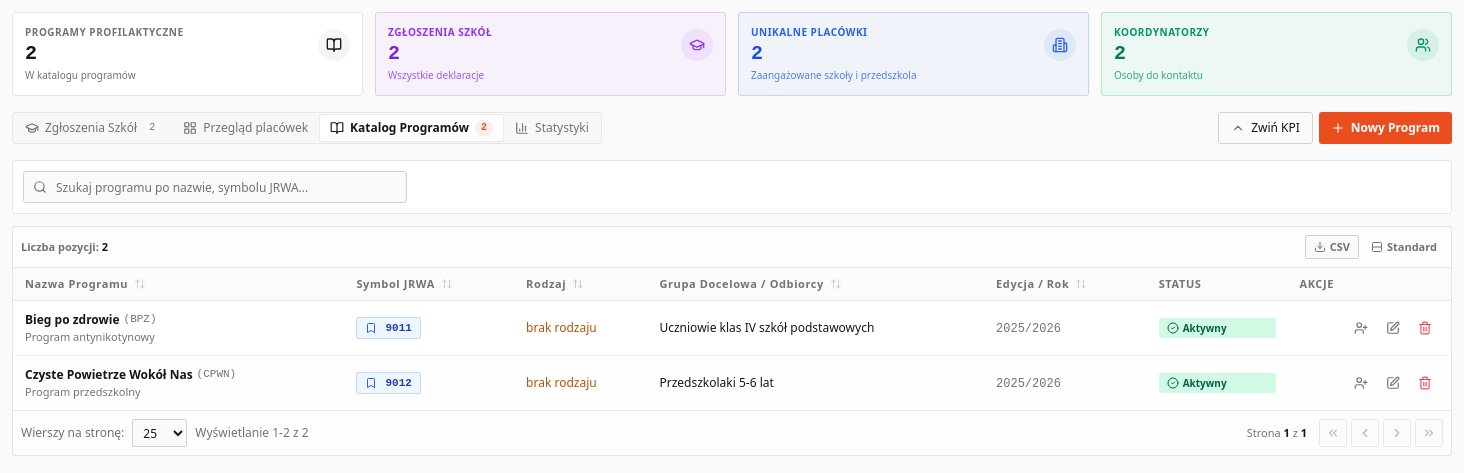
Komponenty programów: przypadki brzegowe › LocalStorage Resilience › survives QuotaExceededError on localStorage.setItem during toggle
What coordinates should you click on to do the following:
click the button "Zwiń KPI"
I would click on:
 (1265, 128)
Its box is [1218,112,1313,144].
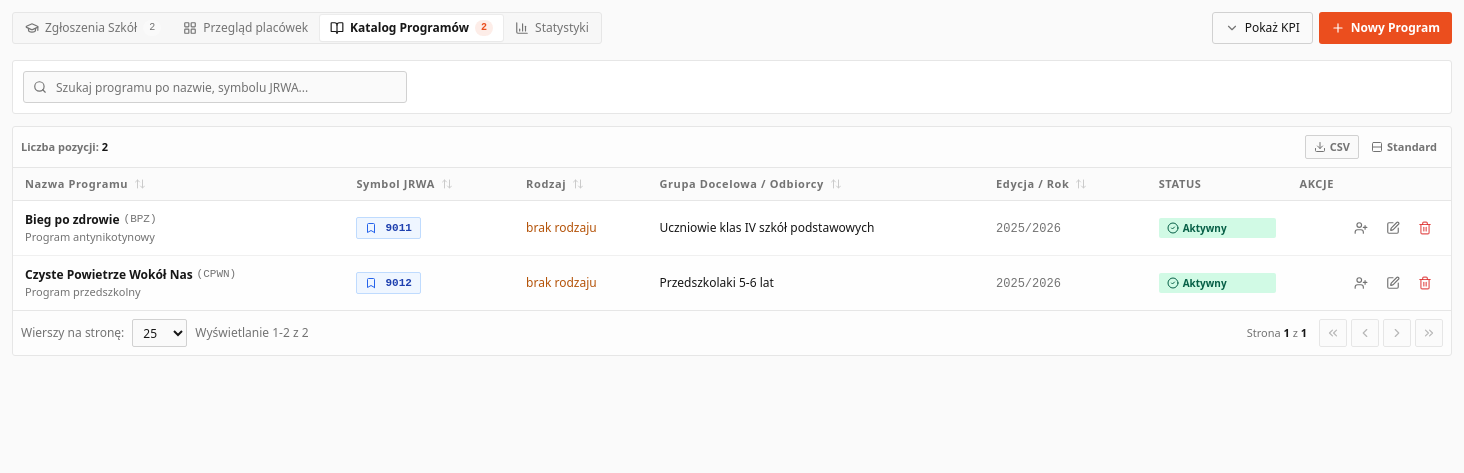
Expected: the text "Programy Profilaktyczne" is gone
Expected: the button "Pokaż KPI" is shown
Note: Expand again
What coordinates should you click on to do the following:
click the button "Pokaż KPI"
I would click on:
 (1262, 28)
Its box is [1212,12,1313,44].
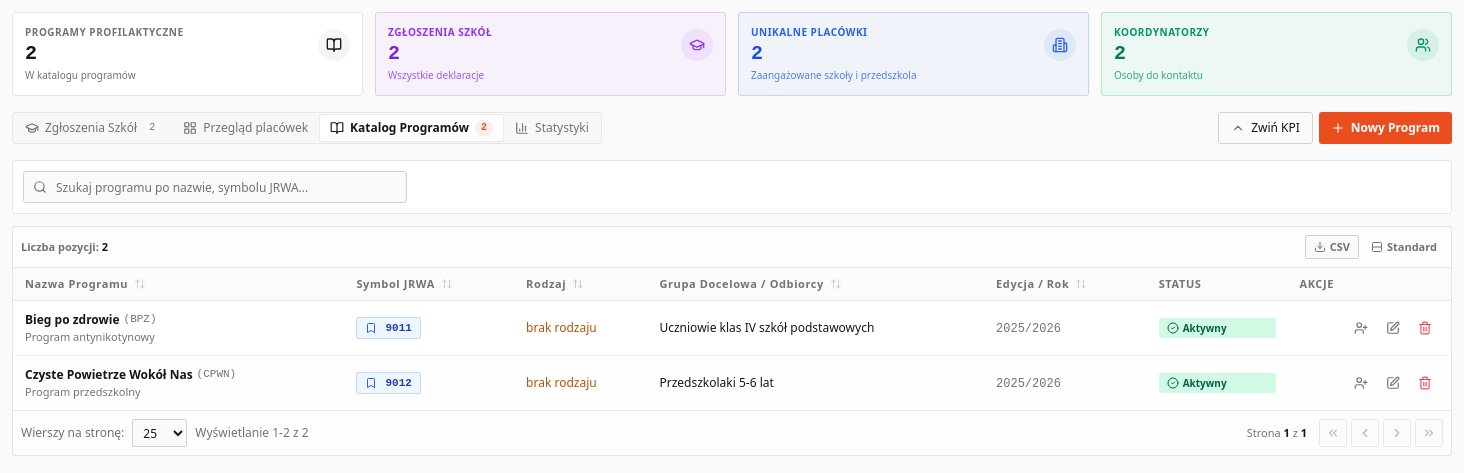
Expected: the text "Programy Profilaktyczne" is shown, [25,25,184,39]
